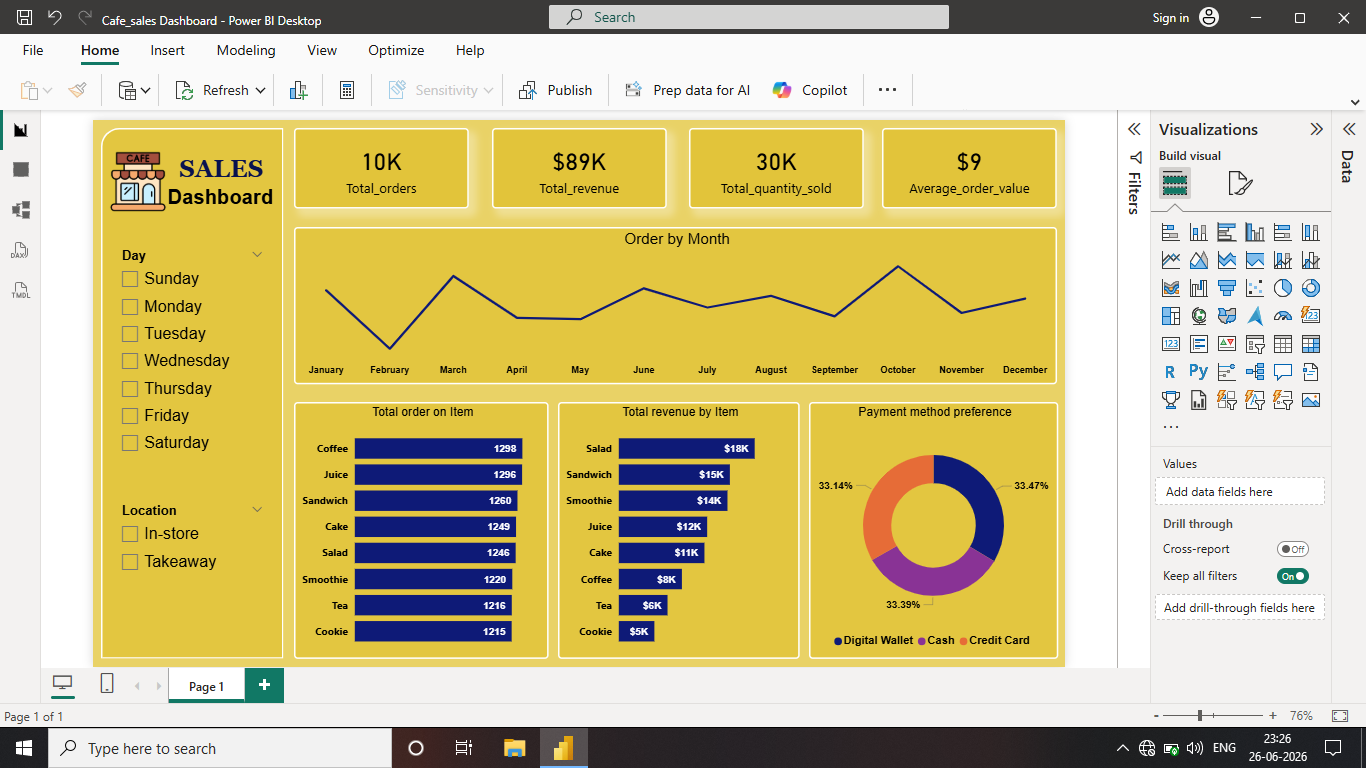

This screenshot's page, from the dashboard's own definition file:
{"tool":"powerbi","page":{"name":"Page 1","canvas":[1280,720],"ordinal":0},"visuals":[{"type":"clusteredBarChart","title":"Total order on Item","fields":{"Category":["Sales.Item"],"Y":["Sales.Total_orders"]},"box":[264.6,370.8,335.4,338.5],"z":0},{"type":"clusteredBarChart","title":"Total revenue by Item","fields":{"Category":["Sales.Item"],"Y":["Sum(Sales.Total_spent)"]},"box":[612.3,370.8,318.5,338.5],"z":1000},{"type":"card","fields":{"Values":["Sales.Total_orders"]},"box":[264.2,10.4,229.9,106],"z":2000},{"type":"card","fields":{"Values":["Sales.Total_revenue"]},"box":[525.4,10.4,229.9,106],"z":3000},{"type":"card","fields":{"Values":["Sales.Total_quantity_sold"]},"box":[783.6,10.4,229.9,106],"z":4000},{"type":"card","fields":{"Values":["Sales.Average_order_value"]},"box":[1038.8,10.4,229.9,106],"z":5000},{"type":"lineChart","title":"Order by Month","fields":{"Category":["Sales.Month"],"Y":["CountNonNull(Sales.Order_id)"]},"box":[264.2,140.3,1004.5,207.5],"z":6000},{"type":"shape","box":[10.8,10.8,240,698.5],"z":7000},{"type":"slicer","fields":{"Values":["Sales.Day"]},"box":[25.4,162.7,210.4,317.9],"z":8000},{"type":"slicer","fields":{"Values":["Sales.Location"]},"box":[25.4,498.5,210.4,141.8],"z":9000},{"type":"donutChart","title":"Payment method preference","fields":{"Category":["Sales.Payment_Method"],"Y":["CountNonNull(Sales.Order_id)"]},"box":[941.5,370.8,327.7,338.5],"z":10000},{"type":"image","box":[19.4,35.8,79.1,91],"z":11000},{"type":"textbox","box":[86.6,40.3,164.2,52.2],"z":12000},{"type":"textbox","box":[68.7,82.1,198.5,44.8],"z":13000}]}

Visuals, with their boxes on the page's 1280x720 design canvas (x1, y1, x2, y2). These are canvas units, not pixel positions in the 1366x768 screenshot, which may show the page scaled, cropped or inside an application window:
"Total order on Item" clusteredBarChart: x1=265 y1=371 x2=600 y2=709
"Total revenue by Item" clusteredBarChart: x1=612 y1=371 x2=931 y2=709
card - Sales.Total_orders: x1=264 y1=10 x2=494 y2=116
card - Sales.Total_revenue: x1=525 y1=10 x2=755 y2=116
card - Sales.Total_quantity_sold: x1=784 y1=10 x2=1014 y2=116
card - Sales.Average_order_value: x1=1039 y1=10 x2=1269 y2=116
"Order by Month" lineChart: x1=264 y1=140 x2=1269 y2=348
shape: x1=11 y1=11 x2=251 y2=709
slicer - Sales.Day: x1=25 y1=163 x2=236 y2=481
slicer - Sales.Location: x1=25 y1=498 x2=236 y2=640
"Payment method preference" donutChart: x1=942 y1=371 x2=1269 y2=709
image: x1=19 y1=36 x2=98 y2=127
textbox: x1=87 y1=40 x2=251 y2=92
textbox: x1=69 y1=82 x2=267 y2=127
